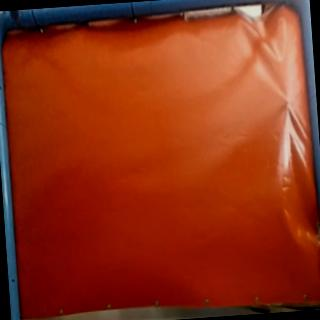Hit-hRxx: (280, 93, 292, 108)
